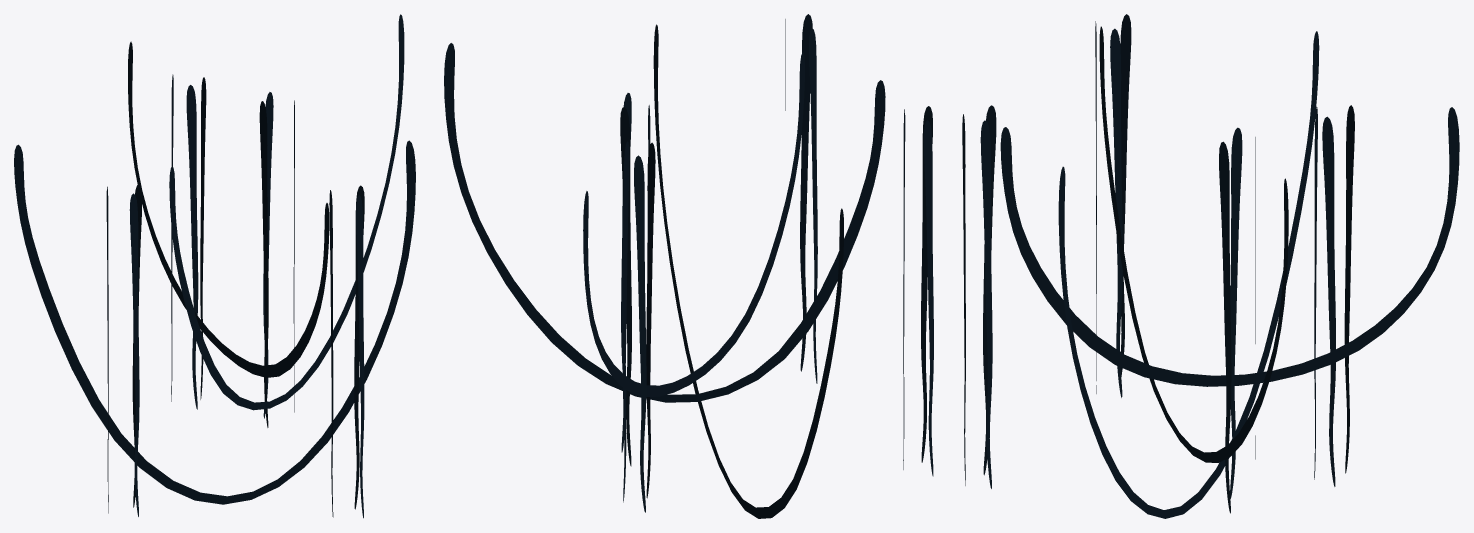
3 views of the same model, side by side, from view 1: azimuth 30°, elevation 25°; view 2: azimuth 150°, elevation 25°; view 3: azimuth 270°, elevation 25° (orthographic). The views are drawn at different scales.
Parts seen in each view (by area): view 1: Plane.003; view 2: Plane.003; view 3: Plane.003.
Boxes of the visible parts, left/top/right/bottom form: Plane.003: left=14, top=14, right=415, bottom=518; Plane.003: left=444, top=14, right=933, bottom=518; Plane.003: left=962, top=14, right=1459, bottom=518.
Bounding box in the file's own units: 20.57 × 21.05 × 20.64.
